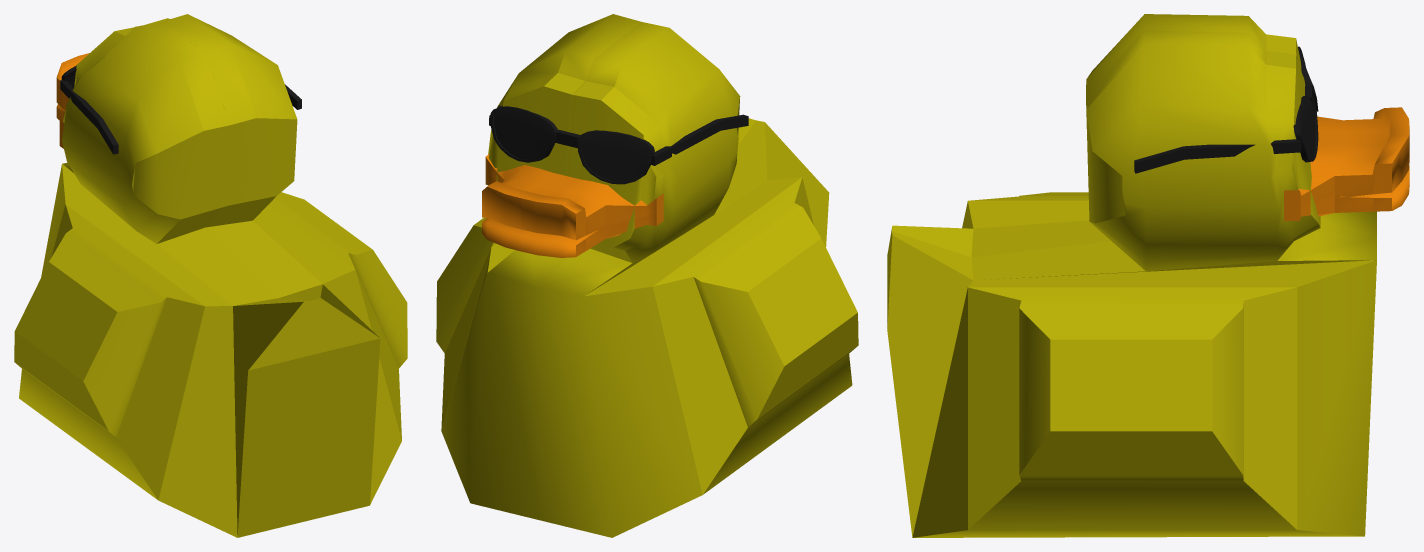
The model's file is Duck.fbx.
3 renders of one model, left to right at view 1: azimuth 30°, elevation 25°; view 2: azimuth 150°, elevation 25°; view 3: azimuth 270°, elevation 25°, orthographic. The views are drawn at different scales.
Visible parts, largest first — view 1: Duck4, pasted__pCubeShape6, pCube4; view 2: Duck4, pCube4, pasted__pCubeShape6; view 3: Duck4, pCube4, pasted__pCubeShape6.
Part boxes in pixels (left/top/right/bottom): Duck4: left=14, top=14, right=407, bottom=537; pasted__pCubeShape6: left=60, top=65, right=301, bottom=154; pCube4: left=56, top=53, right=89, bottom=148; Duck4: left=436, top=14, right=858, bottom=537; pCube4: left=482, top=154, right=663, bottom=257; pasted__pCubeShape6: left=489, top=105, right=748, bottom=184; Duck4: left=887, top=14, right=1376, bottom=537; pCube4: left=1284, top=107, right=1409, bottom=220; pasted__pCubeShape6: left=1134, top=46, right=1318, bottom=173.
Bounding box in the file's own units: 5.84 × 6.87 × 6.91.
